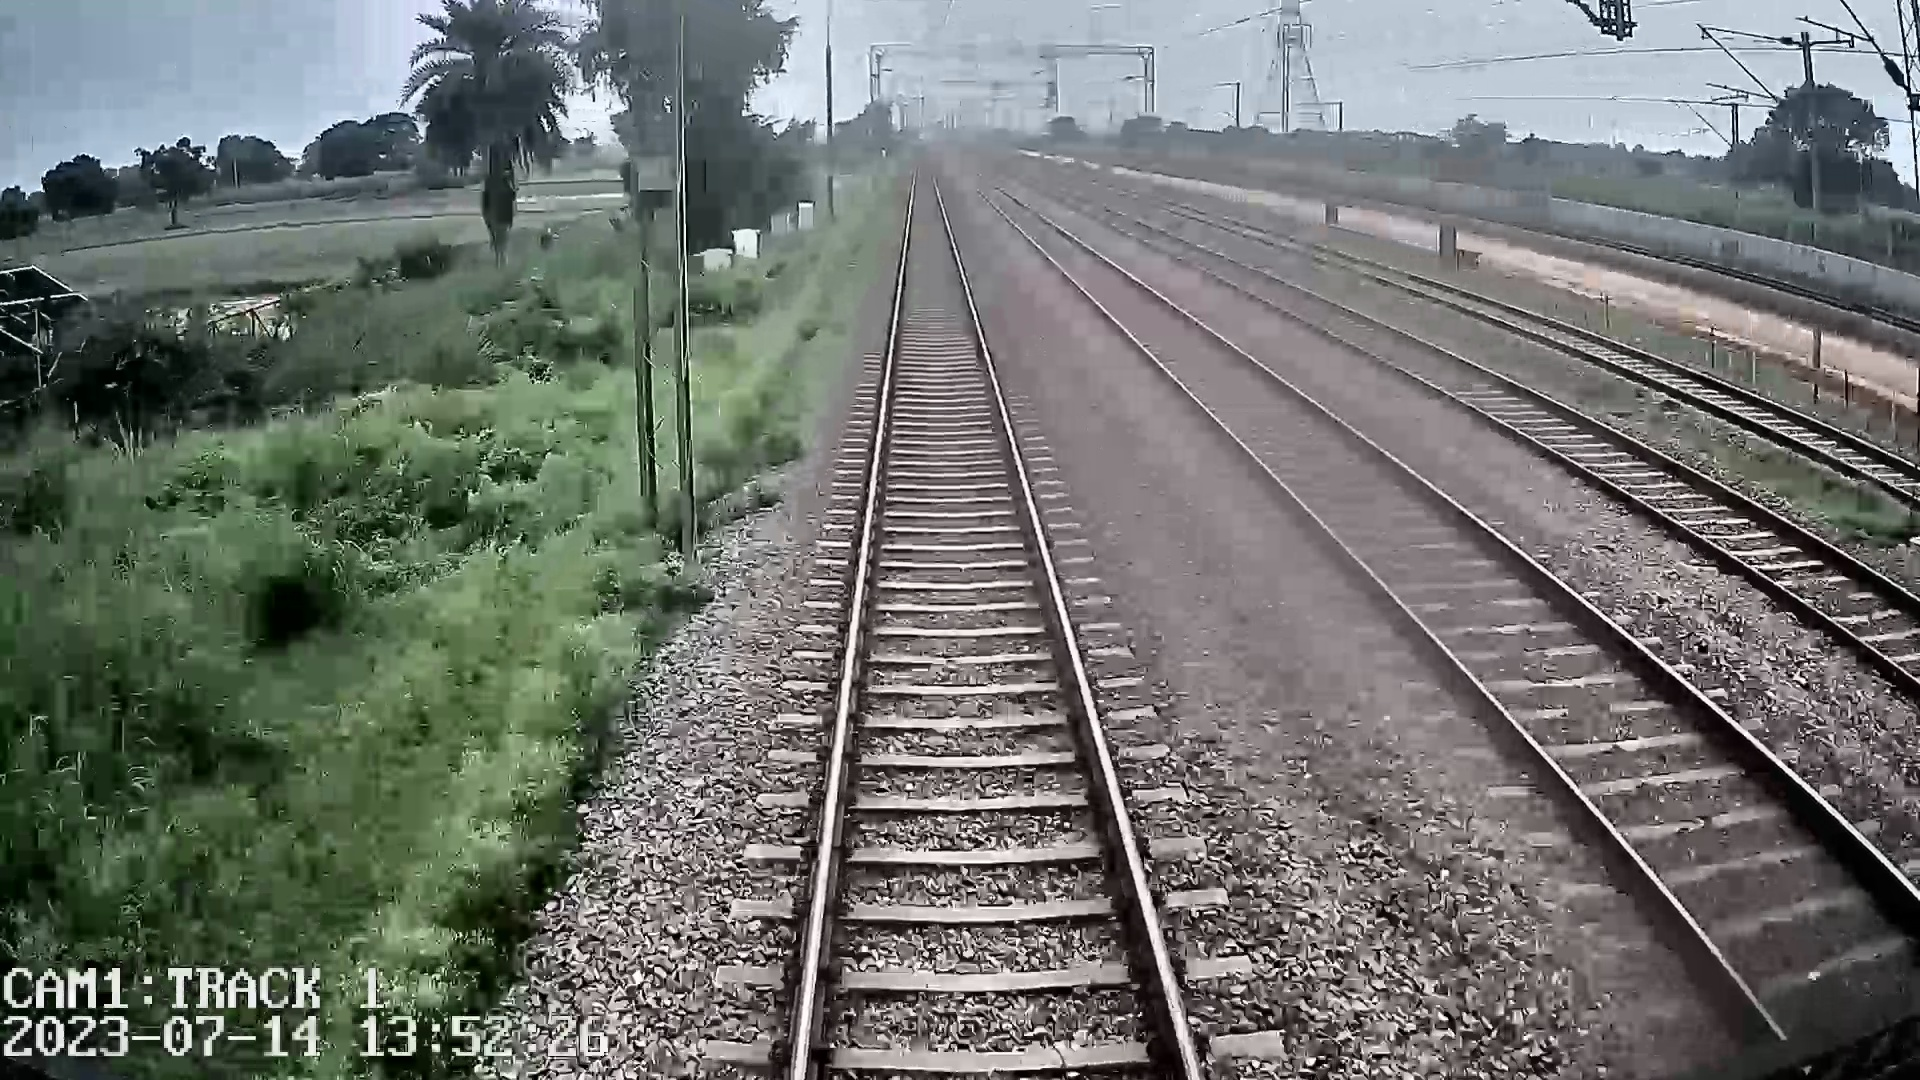track1: (798, 170, 1192, 1067)
track2: (978, 191, 1912, 1027)
track3: (1109, 214, 1916, 676)
track4: (1247, 229, 1919, 492)
